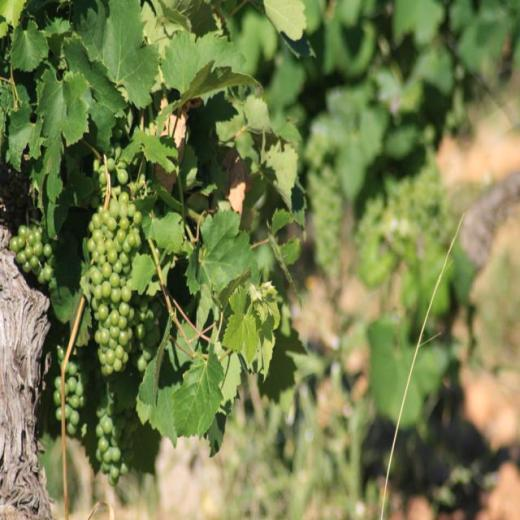Orange: (86, 130, 162, 380), (306, 139, 344, 275), (96, 396, 140, 488), (53, 346, 88, 436), (8, 224, 56, 285)
